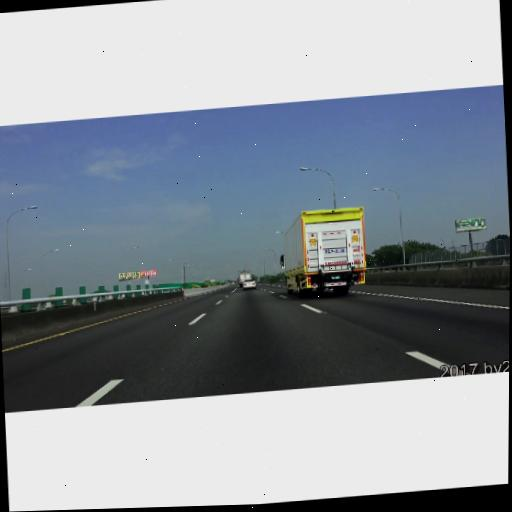Car: (283, 207, 368, 301), (243, 278, 257, 290), (238, 272, 250, 286)
